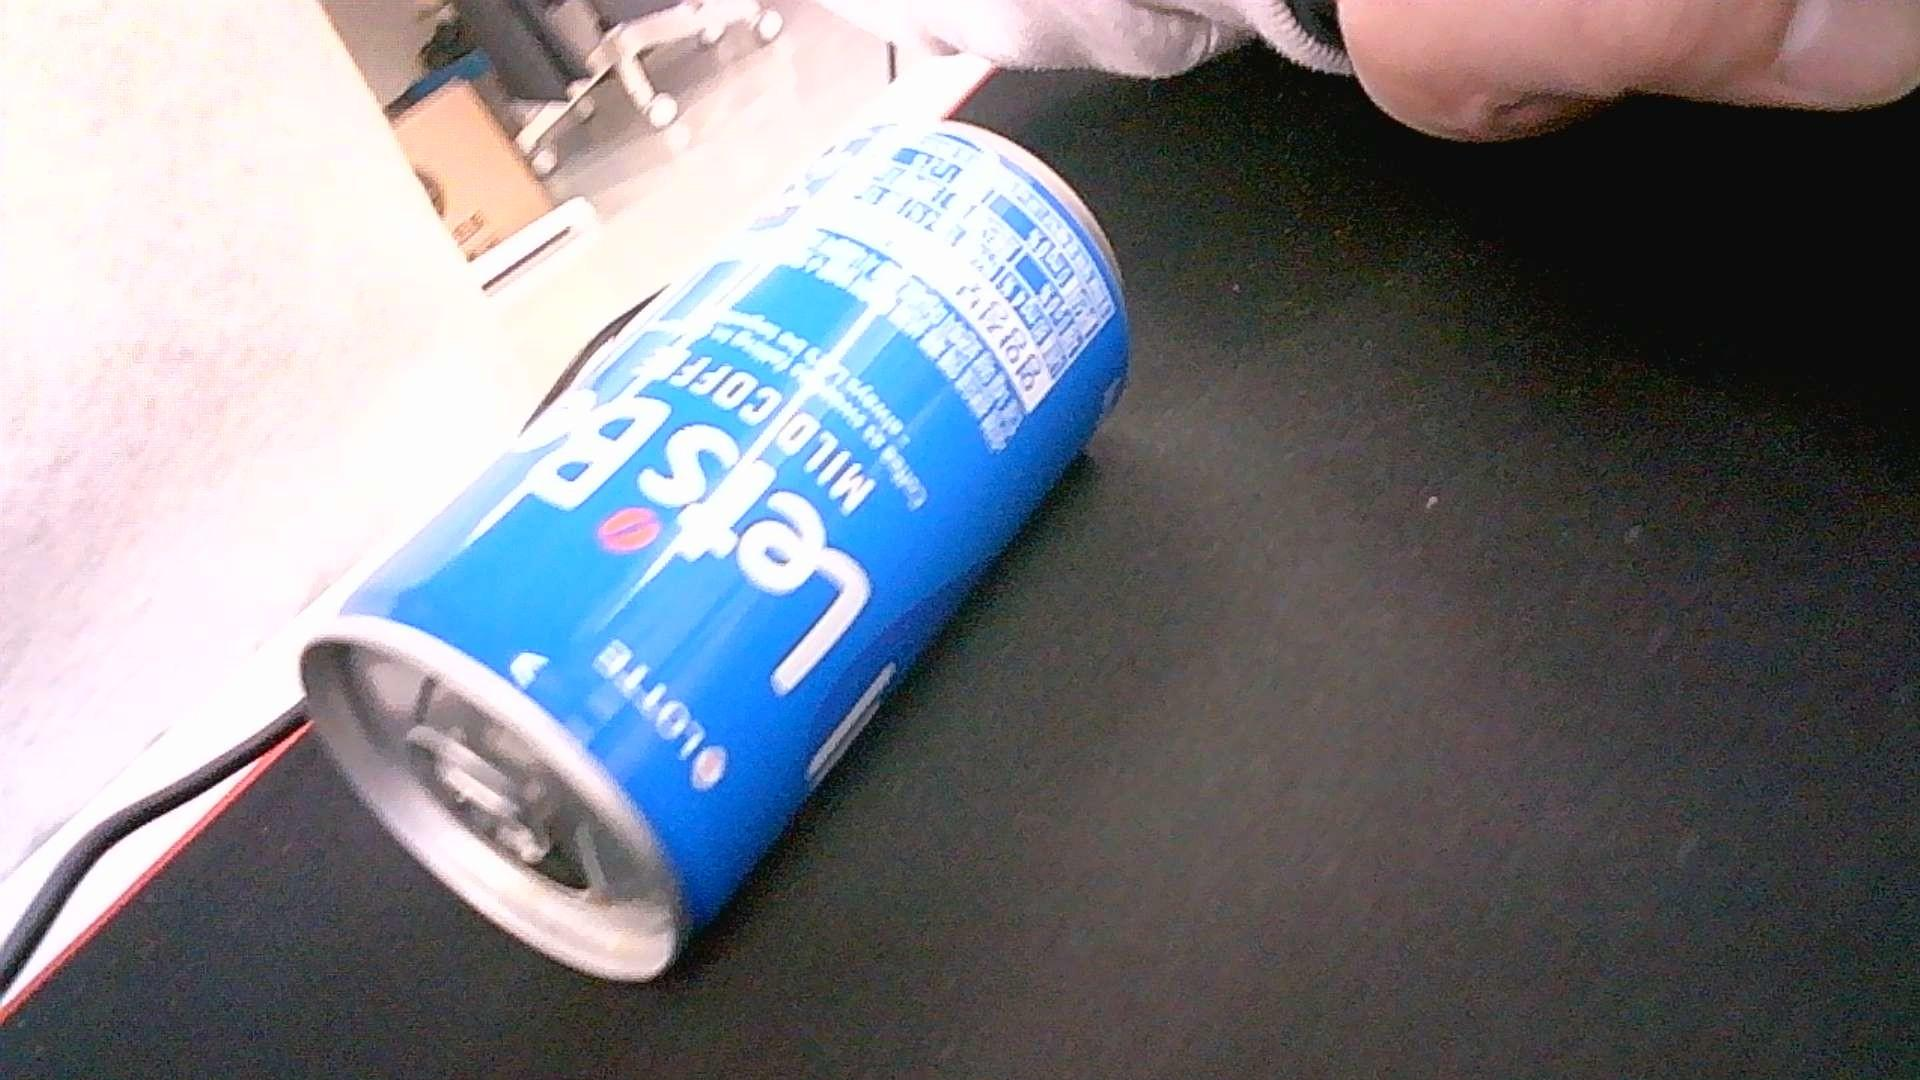letsbe: (301, 117, 1131, 982)
